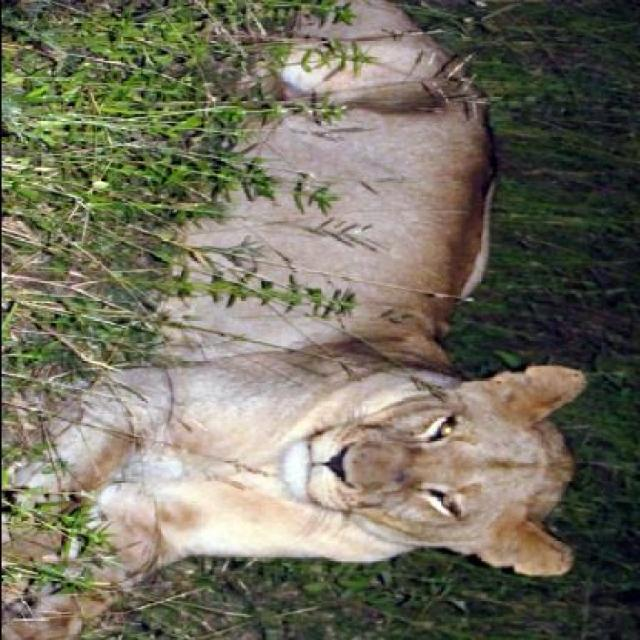Lion: (2, 3, 604, 609)
